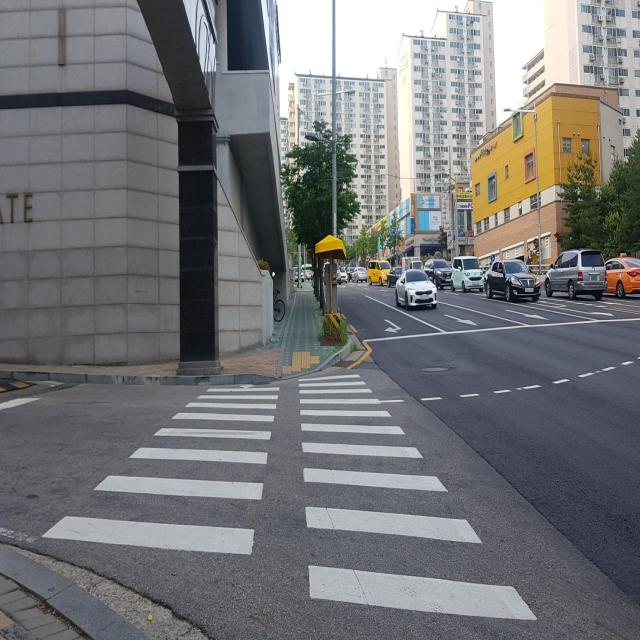횡단보도: (37, 372, 539, 624)
